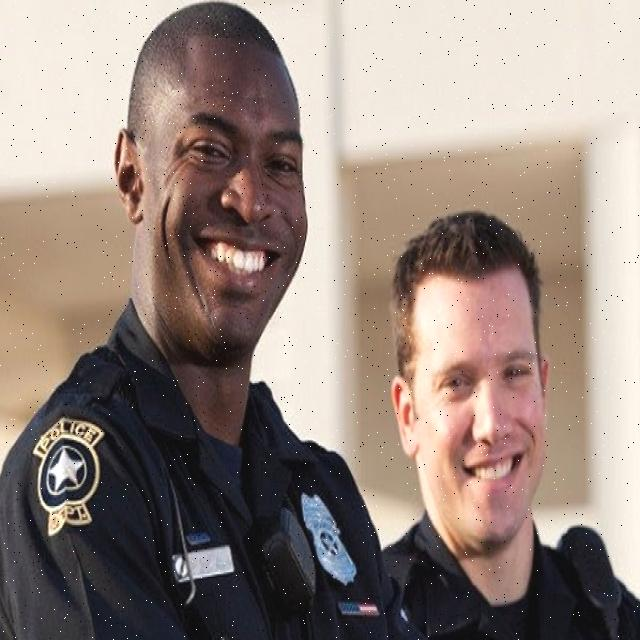police: (38, 0, 368, 640), (364, 181, 640, 640)
